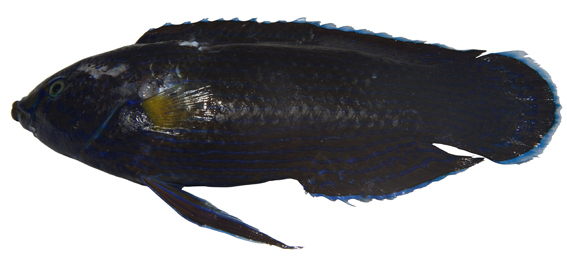fish: (11, 16, 562, 250)
